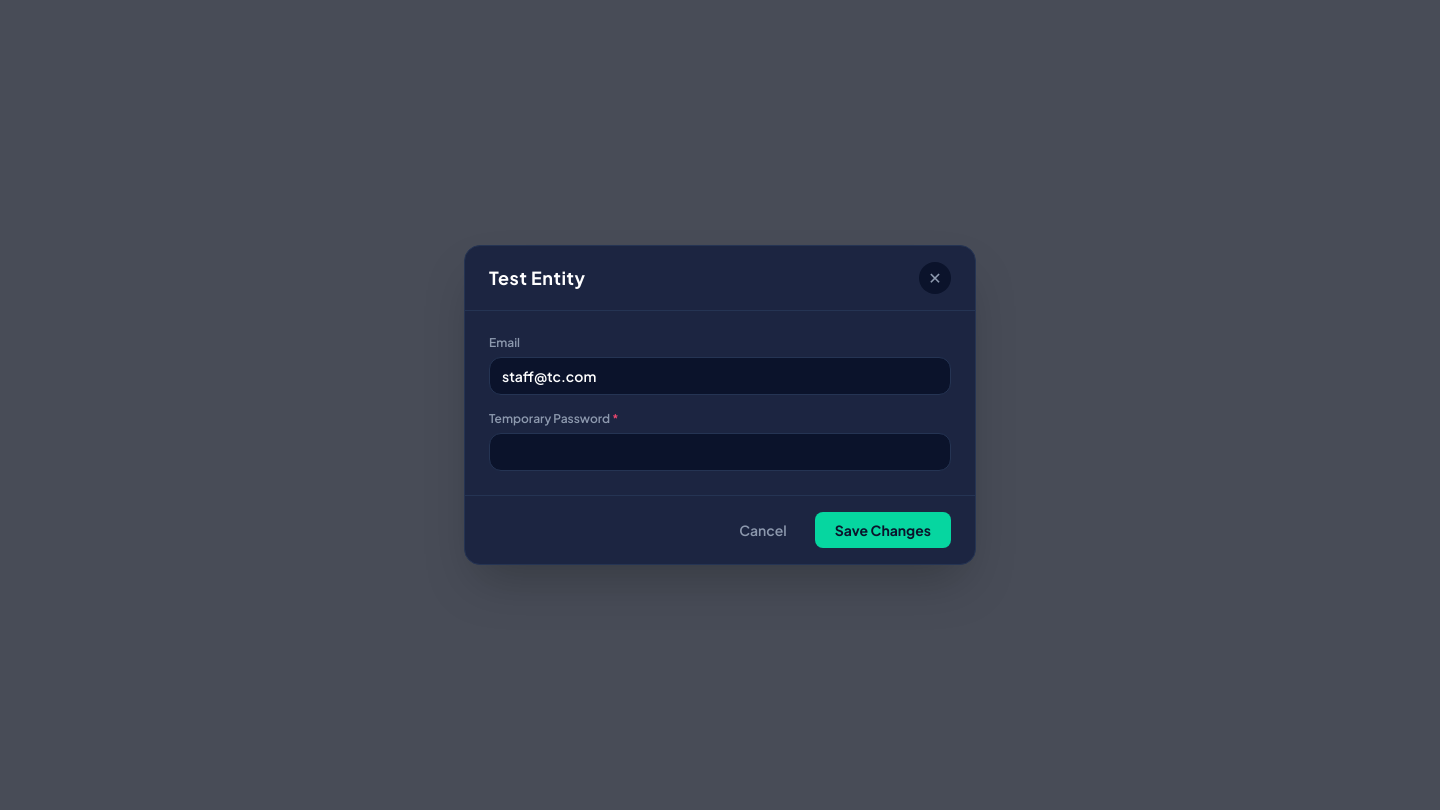
Test: CrudModal password fields › requires the temporary password
Click the button "Save Changes" at (883, 530), box [815,512,951,548]
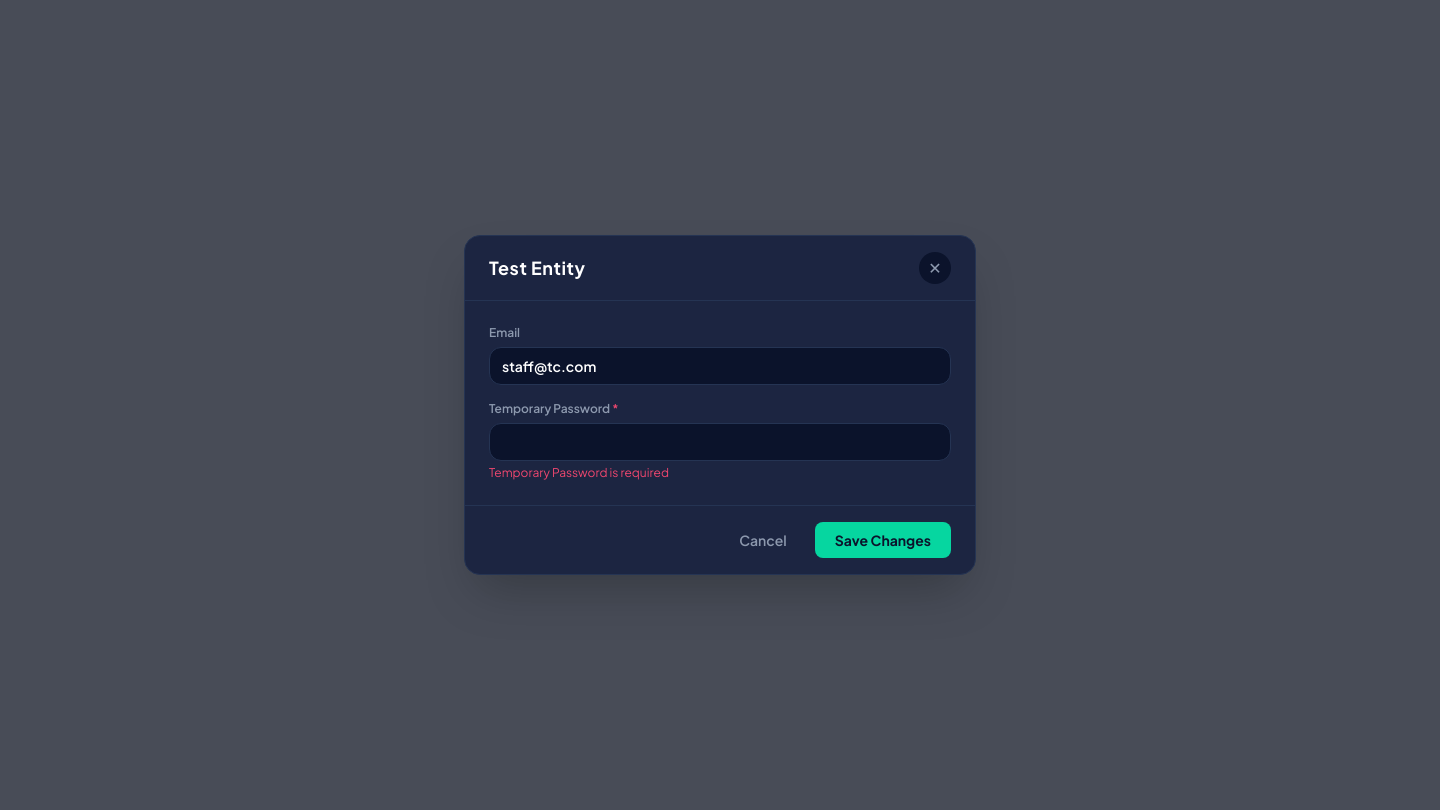
Check: the text "Temporary Password is required" is shown, box [489,465,669,480]
